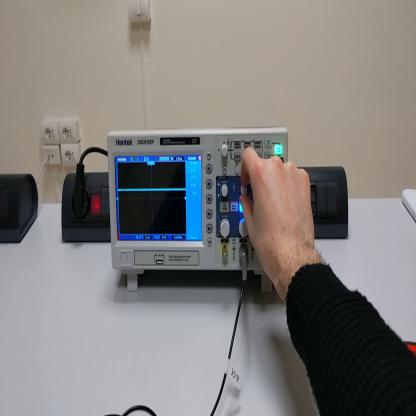hand: (239, 147, 319, 291)
oscilloscope: (108, 128, 289, 295)
pliers: (406, 337, 416, 356)
socket: (58, 170, 111, 247), (1, 168, 40, 244)
